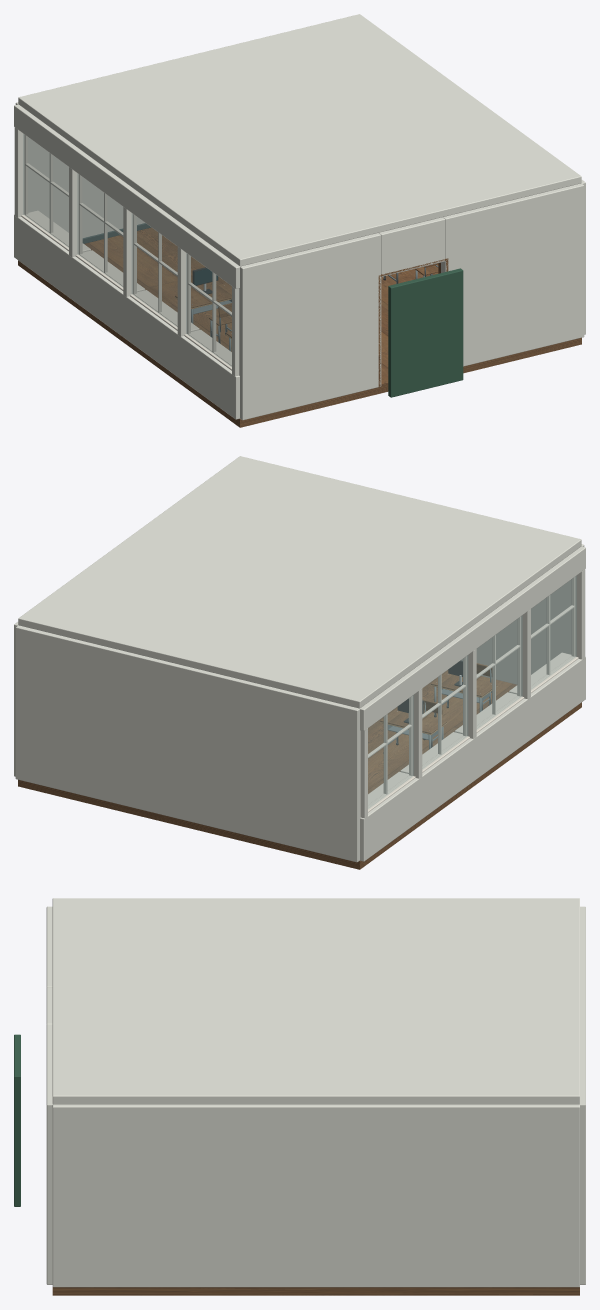
The picture shows the model from 3 angles, top to bottom: view 1: azimuth 30°, elevation 25°; view 2: azimuth 150°, elevation 25°; view 3: azimuth 270°, elevation 25°; orthographic projection. The views are drawn at different scales.
Visible parts, largest first — view 1: 2-1__architecture_and_equipment; view 2: 2-1__architecture_and_equipment; view 3: 2-1__architecture_and_equipment.
Part boxes in pixels (box(x1,y1,x2,y2)): 2-1__architecture_and_equipment: box(14, 14, 585, 427); 2-1__architecture_and_equipment: box(14, 456, 585, 869); 2-1__architecture_and_equipment: box(14, 898, 585, 1295).
Bounding box in the file's own units: 8.2 × 3.76 × 9.76.
Materials: 15 (1 with a texture image).
